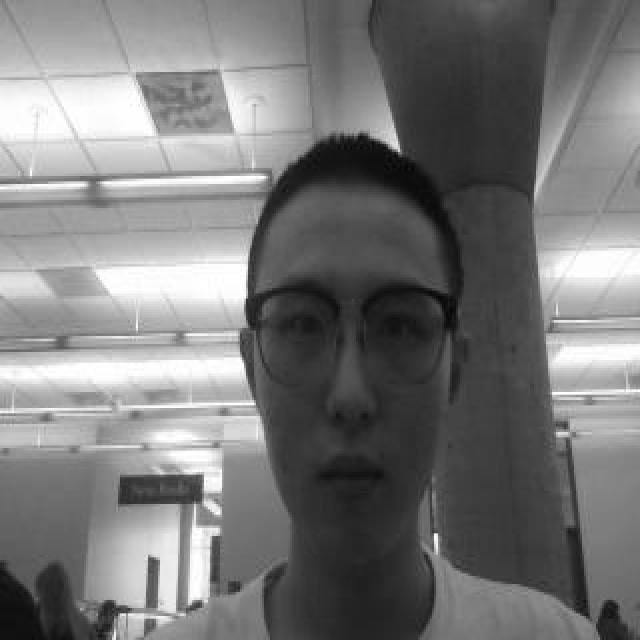Focused: (253, 184, 459, 574)
